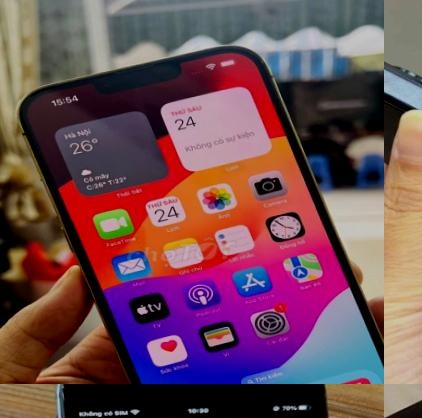scratch: (53, 384, 83, 409), (257, 390, 279, 410), (184, 384, 233, 392)
